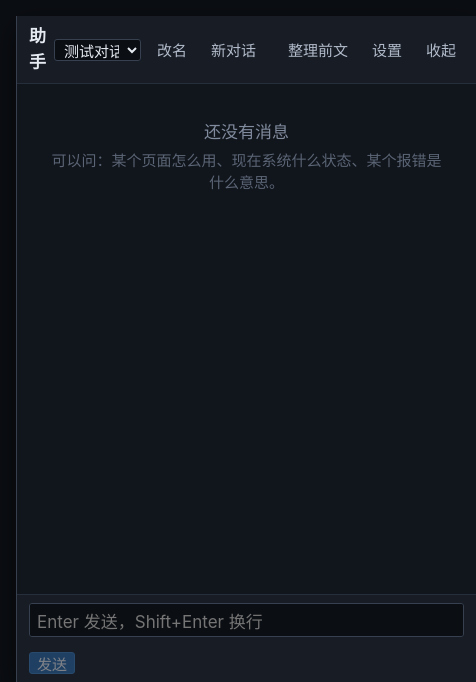
Test case: 发送流程 › 输入 → 发送 → 正在生成 → 回复显示、输入框清空
The image size is (476, 682).
Type "你好" into the text box with placeholder "Enter 发送，Shift+Enter 换行" at x=246, y=620, box [29, 602, 464, 636]
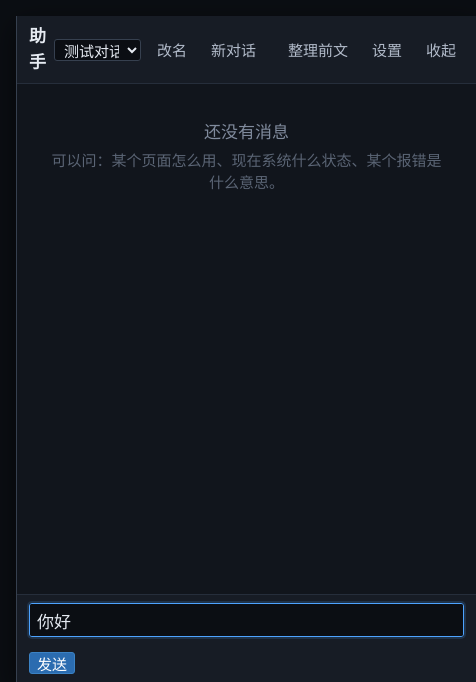
Click the button "发送" at x=52, y=663, box [29, 652, 75, 674]
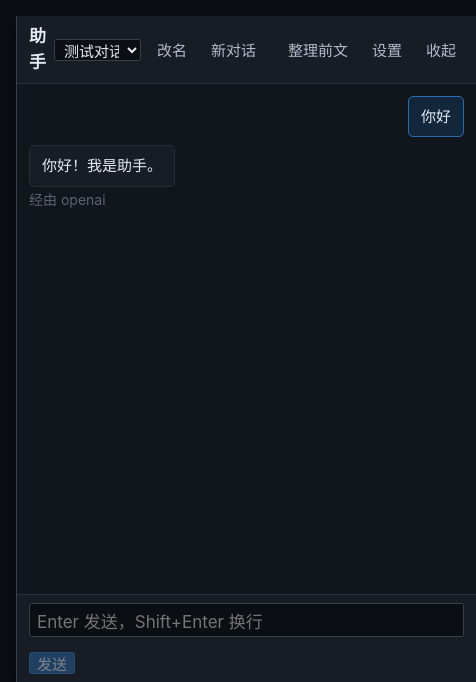
Expected: the button named "正在生成…" is disabled, [29, 652, 75, 674]
Expected: the text "你好！我是助手。" is shown, [42, 154, 162, 178]
Expected: the text box with placeholder "Enter 发送，Shift+Enter 换行" is empty, [29, 602, 464, 636]
